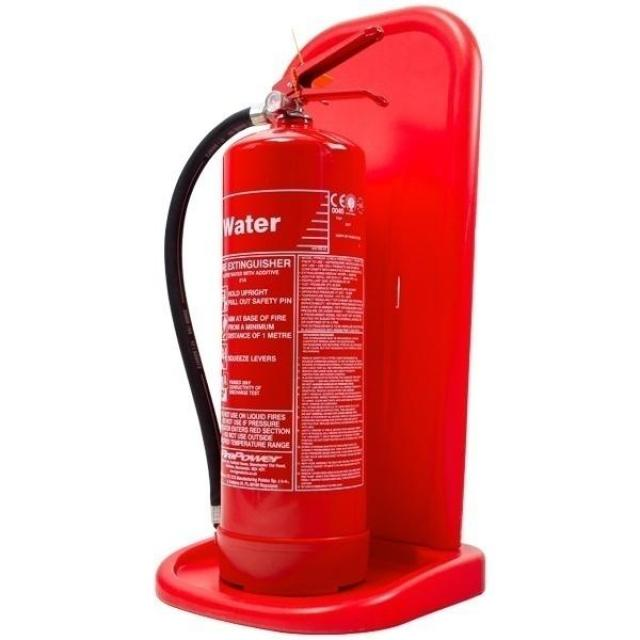fire_extinguisher: (157, 18, 396, 606)
